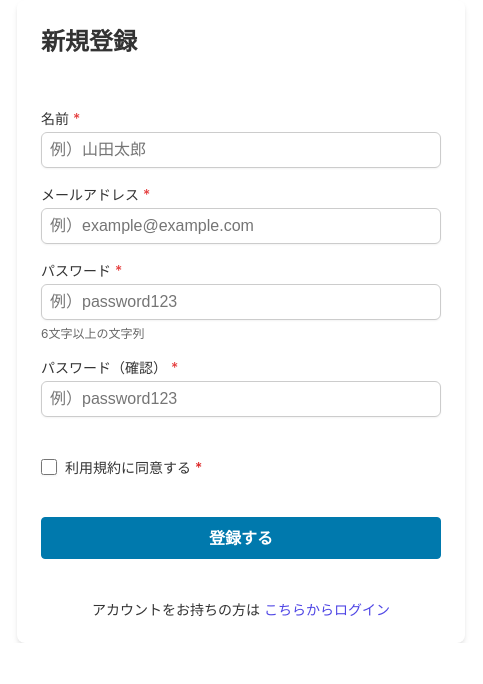
Test: RegisterForm › バリデーション › 短すぎるパスワードを入力するとエラーメッセージが表示されること
Type "12345" into the password field labelled "パスワード*" at point(241, 302), box top-left (41, 284), bottom-right (441, 320)
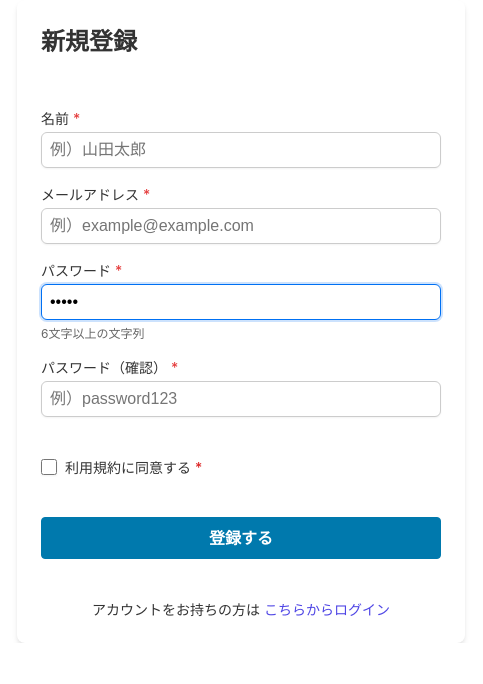
Press Tab
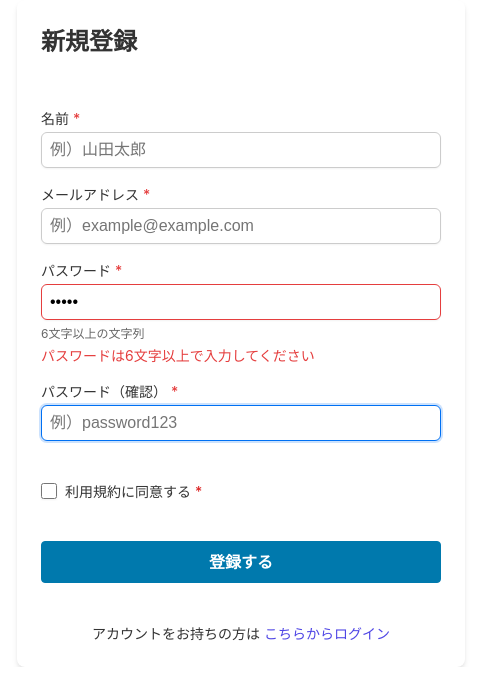
Check: the text "パスワードは6文字以上で入力してください" is shown, box top-left (41, 347), bottom-right (315, 364)
